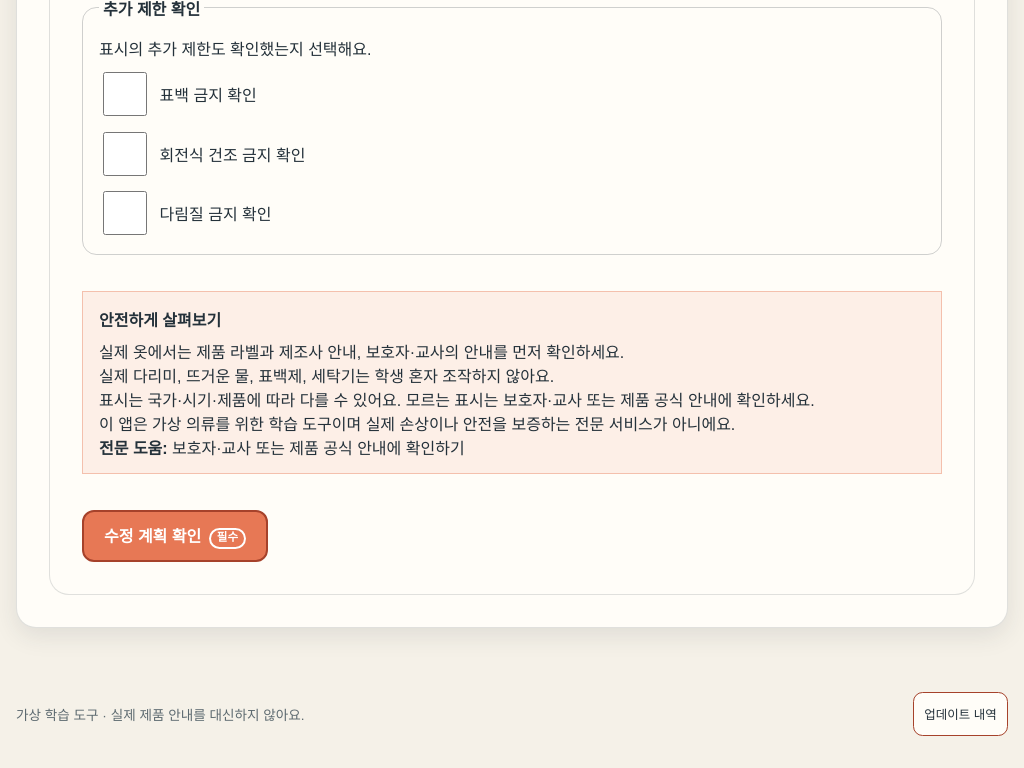
Test: Task 11 가상 결과와 계획 수정 › requires an actual change and label evidence after an outside-limit plan
The image size is (1024, 768).
(page scrolled)
What coordinates should you click on to do the following:
click the button "수정 계획 확인"
I would click on:
 (175, 536)
Its box is [82,510,268,562].
(page scrolled)
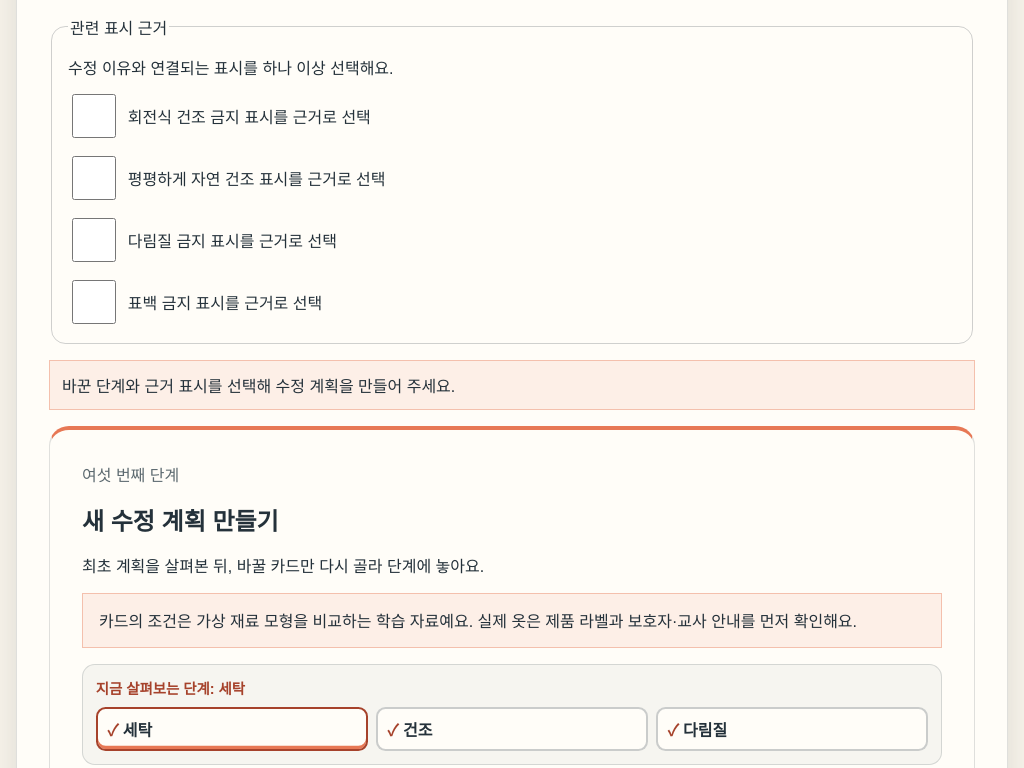
Result: the message shows "바꾼 단계와 근거 표시" at [62,378,455,395]
